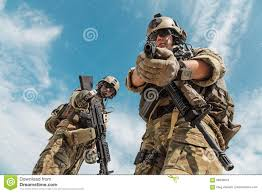Gun: (170, 84, 226, 163), (86, 100, 112, 171), (139, 43, 164, 63)
